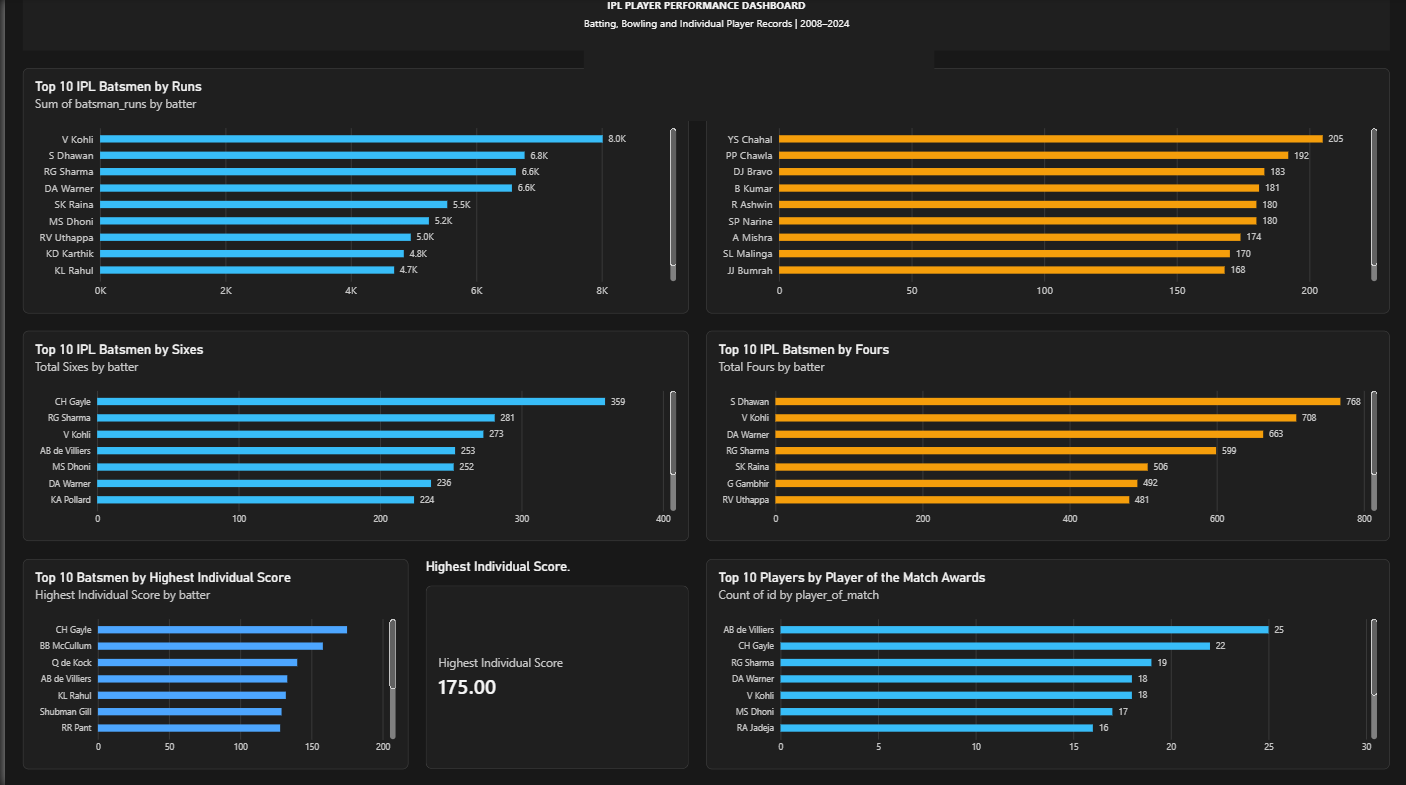

What the dashboard file says about the page in this screenshot:
{"tool":"powerbi","page":{"name":"Player Performance","canvas":[1920,1080],"ordinal":2},"visuals":[{"type":"clusteredBarChart","title":"Top 10 IPL Batsmen by Runs","fields":{"Category":["cleaned_deliveries.batter"],"Y":["CountNonNull(cleaned_deliveries.batsman_runs)"]},"box":[24,96,912,336],"z":0},{"type":"clusteredBarChart","title":"Top 10 IPL Bowlers by Wickets","fields":{"Category":["cleaned_deliveries.bowler"],"Y":["cleaned_deliveries.Total Wickets"]},"box":[960,96,936,336],"z":1000},{"type":"clusteredBarChart","title":"Top 10 IPL Batsmen by Sixes","fields":{"Category":["cleaned_deliveries.batter"],"Y":["cleaned_deliveries.Total Sixes"]},"box":[24,456,912,288],"z":2000},{"type":"clusteredBarChart","title":"Top 10 IPL Batsmen by Fours","fields":{"Category":["cleaned_deliveries.batter"],"Y":["cleaned_deliveries.Total Fours"]},"box":[960,456,936,288],"z":3000},{"type":"clusteredBarChart","title":"Top 10 Batsmen by Highest Individual Score","fields":{"Category":["cleaned_deliveries.batter"],"Y":["cleaned_deliveries.Highest Individual Score"]},"box":[24,768,528,288],"z":4000},{"type":"cardVisual","title":"Highest Individual Score.","fields":{"Data":["cleaned_deliveries.Highest Individual Score"]},"box":[576,768,360,288],"z":5000},{"type":"clusteredBarChart","title":"Top 10 Players by Player of the Match Awards","fields":{"Category":["cleaned_matches.player_of_match"],"Y":["CountNonNull(cleaned_matches.id)"]},"box":[960,768,936,288],"z":6000},{"type":"textbox","box":[24,0,1872,72],"z":7000},{"type":"textbox","box":[792,24,480,144],"z":7001}]}

Visuals, with their boxes in screenshot pixels (x1, y1, x2, y2), scaled from the page's 1920x1080 canvas onto the 1406x785 screenshot:
"Top 10 IPL Batsmen by Runs" clusteredBarChart: {"left": 18, "top": 70, "right": 685, "bottom": 314}
"Top 10 IPL Bowlers by Wickets" clusteredBarChart: {"left": 703, "top": 70, "right": 1388, "bottom": 314}
"Top 10 IPL Batsmen by Sixes" clusteredBarChart: {"left": 18, "top": 331, "right": 685, "bottom": 541}
"Top 10 IPL Batsmen by Fours" clusteredBarChart: {"left": 703, "top": 331, "right": 1388, "bottom": 541}
"Top 10 Batsmen by Highest Individual Score" clusteredBarChart: {"left": 18, "top": 558, "right": 404, "bottom": 768}
"Highest Individual Score." cardVisual: {"left": 422, "top": 558, "right": 685, "bottom": 768}
"Top 10 Players by Player of the Match Awards" clusteredBarChart: {"left": 703, "top": 558, "right": 1388, "bottom": 768}
textbox: {"left": 18, "top": 0, "right": 1388, "bottom": 52}
textbox: {"left": 580, "top": 17, "right": 931, "bottom": 122}
